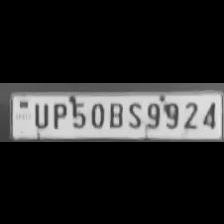0: (88, 99, 104, 127)
2: (180, 98, 198, 130)
4: (198, 98, 218, 130)
5: (68, 98, 86, 128)
9: (161, 99, 179, 129), (144, 100, 160, 128)
B: (105, 100, 124, 128)
P: (49, 100, 67, 128)
S: (125, 100, 142, 128)
U: (29, 100, 49, 128)
